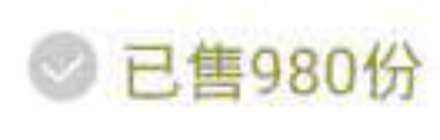CheckBox: (1, 1, 439, 139)
